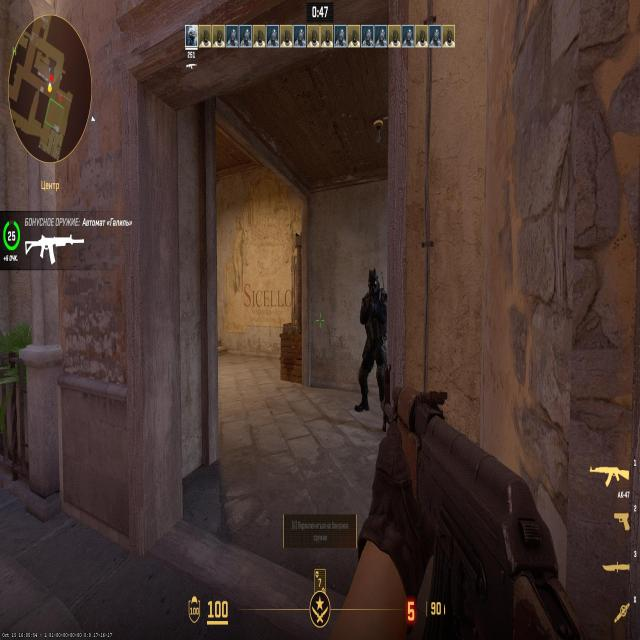CT: (365, 274, 387, 386)
CT_heat: (368, 281, 379, 305)
